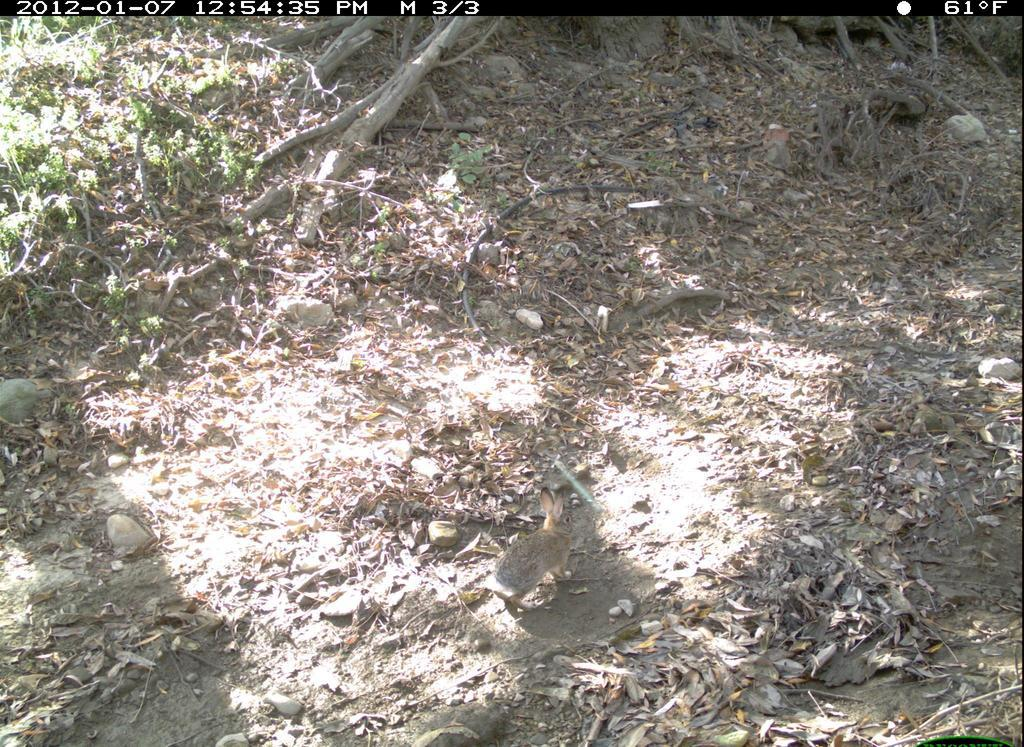rabbit: (483, 484, 583, 620)
